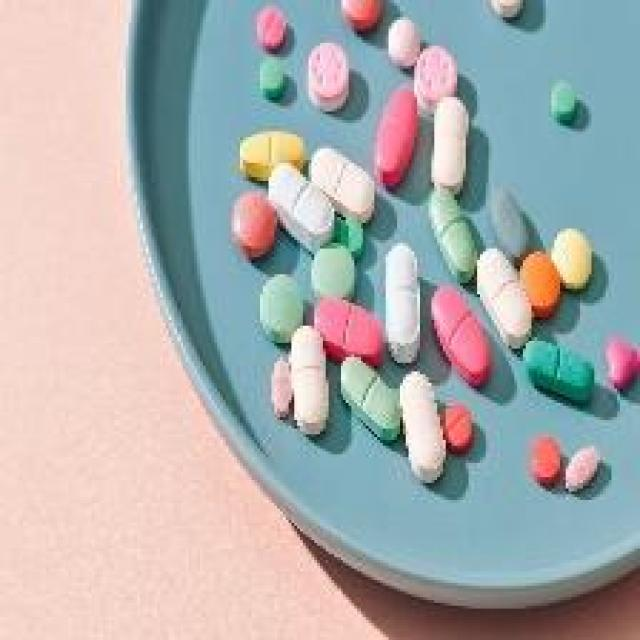Medicine: (193, 0, 640, 527)
